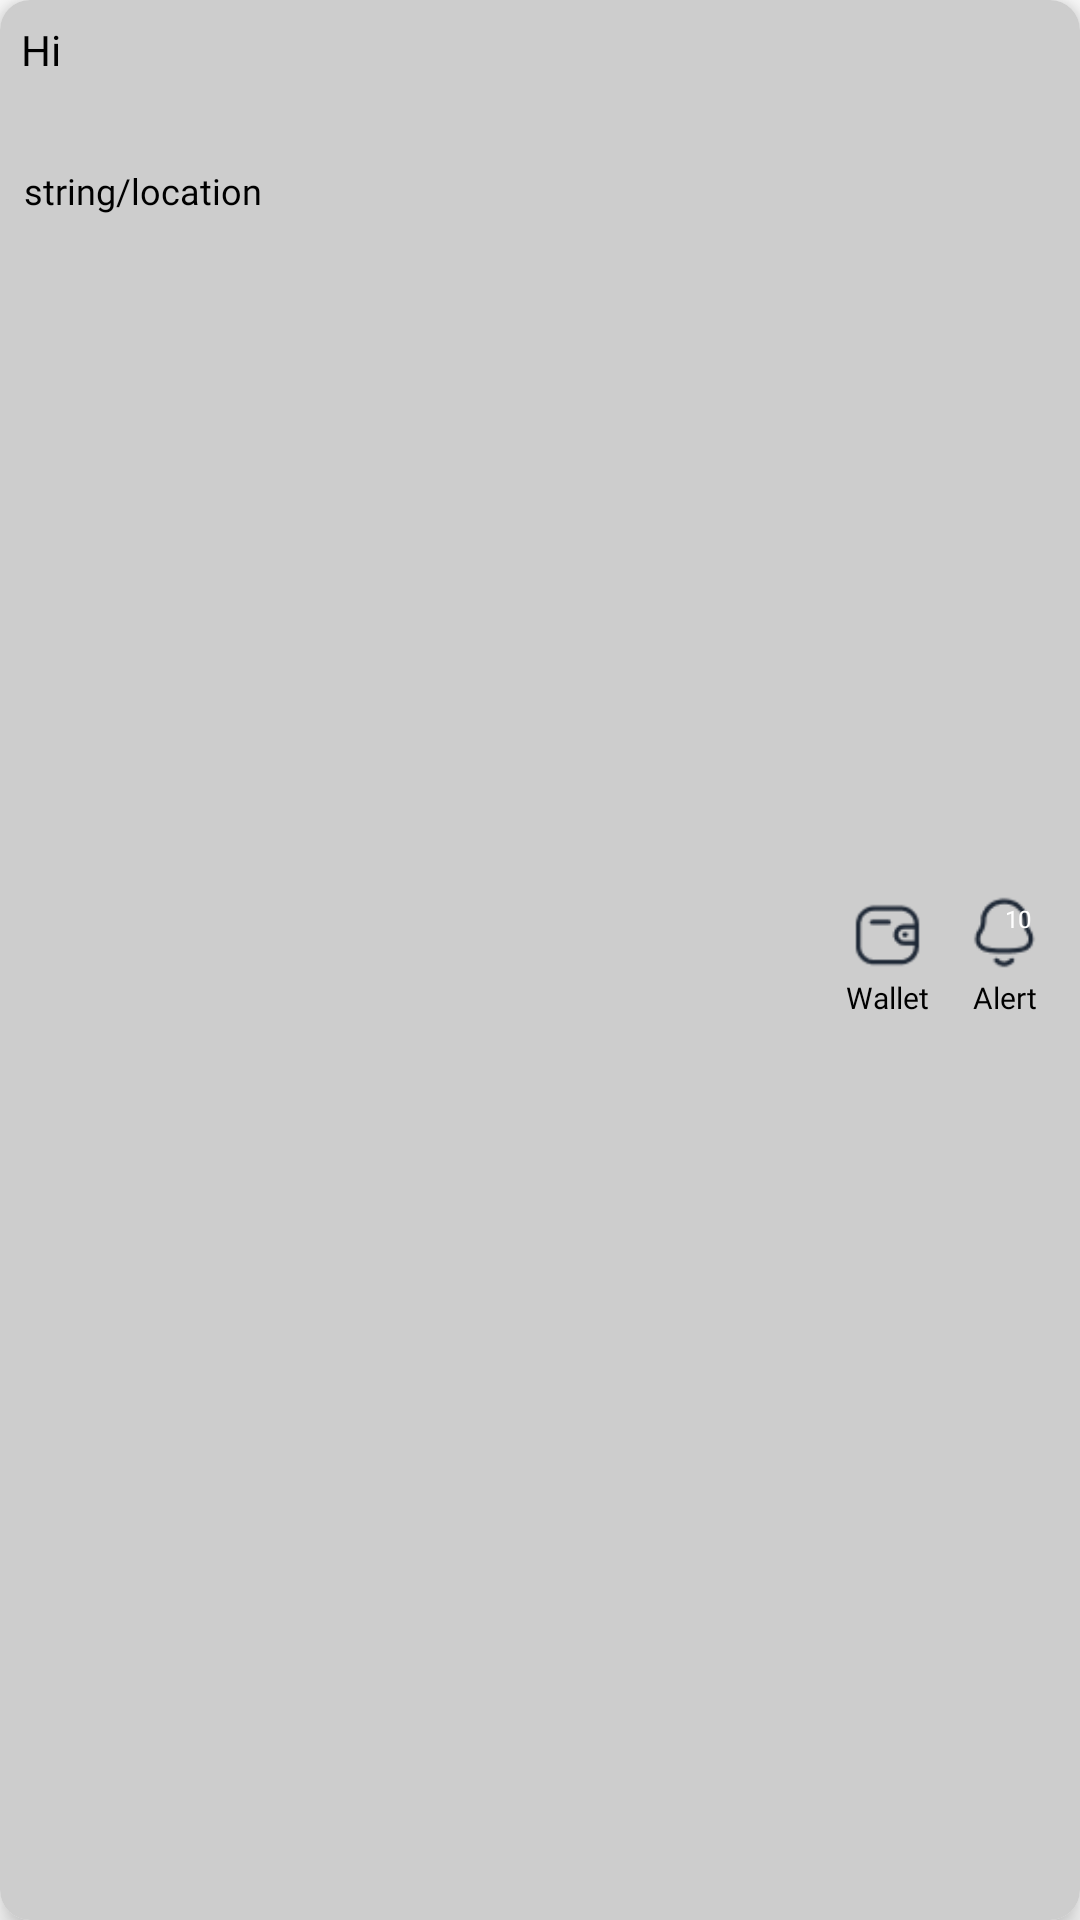

Named icons in this screenshot (1080x1920) and their bounding boxes, box(x1, y1, x2, y2):
notification: box(974, 898, 1035, 967)
